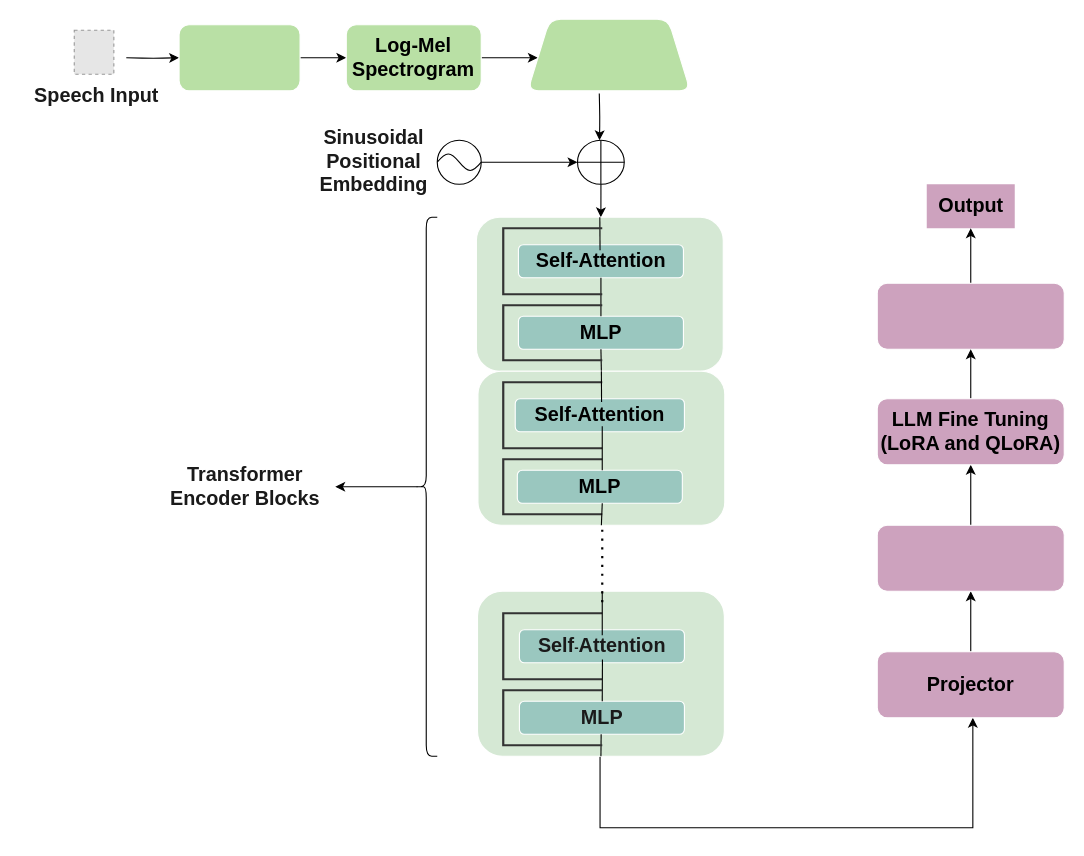
Image size: 1084x856. Some labels were removed from this diagram. Grey dashed boxes stand in for pictures. Here are the shapes that lost their labels. From the top down, the centre of each, then its label:
At (239,57): "Data processing".
At (608,54): "2 X Conv 1D + GELU".
At (970,315): "Optimized Model".
At (970,557): "Classifier Head".
